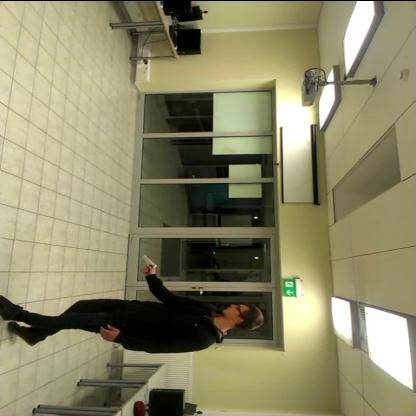Pistol: (134, 252, 164, 276)
